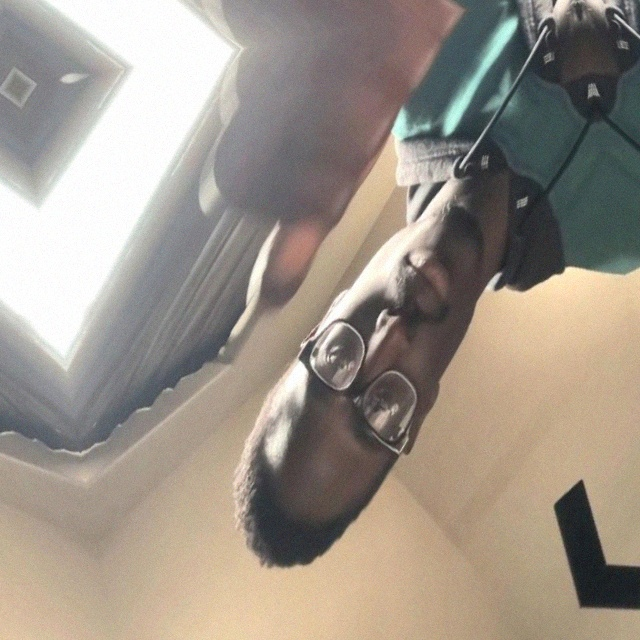Rock: (121, 13, 491, 346)
